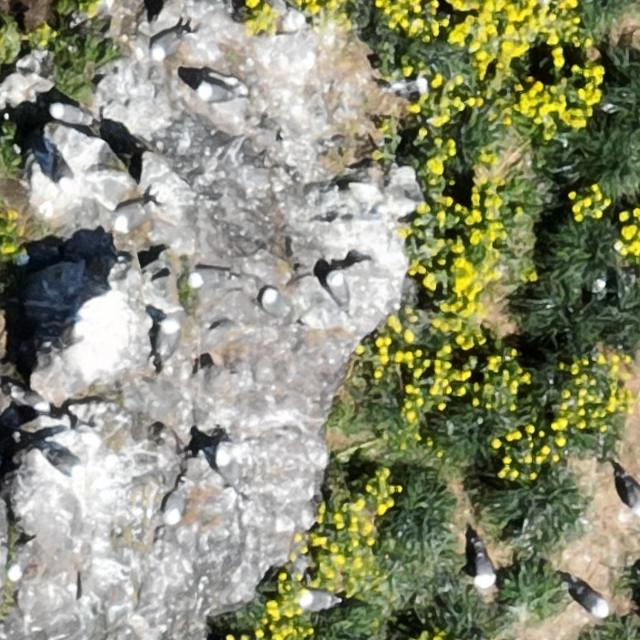umineko: (43, 443, 87, 480), (261, 286, 301, 326), (113, 199, 156, 234), (216, 449, 245, 499), (8, 537, 35, 581), (573, 586, 610, 616), (474, 550, 496, 588), (153, 33, 181, 60), (327, 275, 349, 308), (166, 488, 187, 522), (622, 474, 640, 513), (298, 590, 335, 608), (157, 321, 176, 356), (52, 104, 84, 124), (198, 84, 231, 102), (189, 268, 222, 286), (13, 391, 45, 409), (55, 157, 72, 186)
